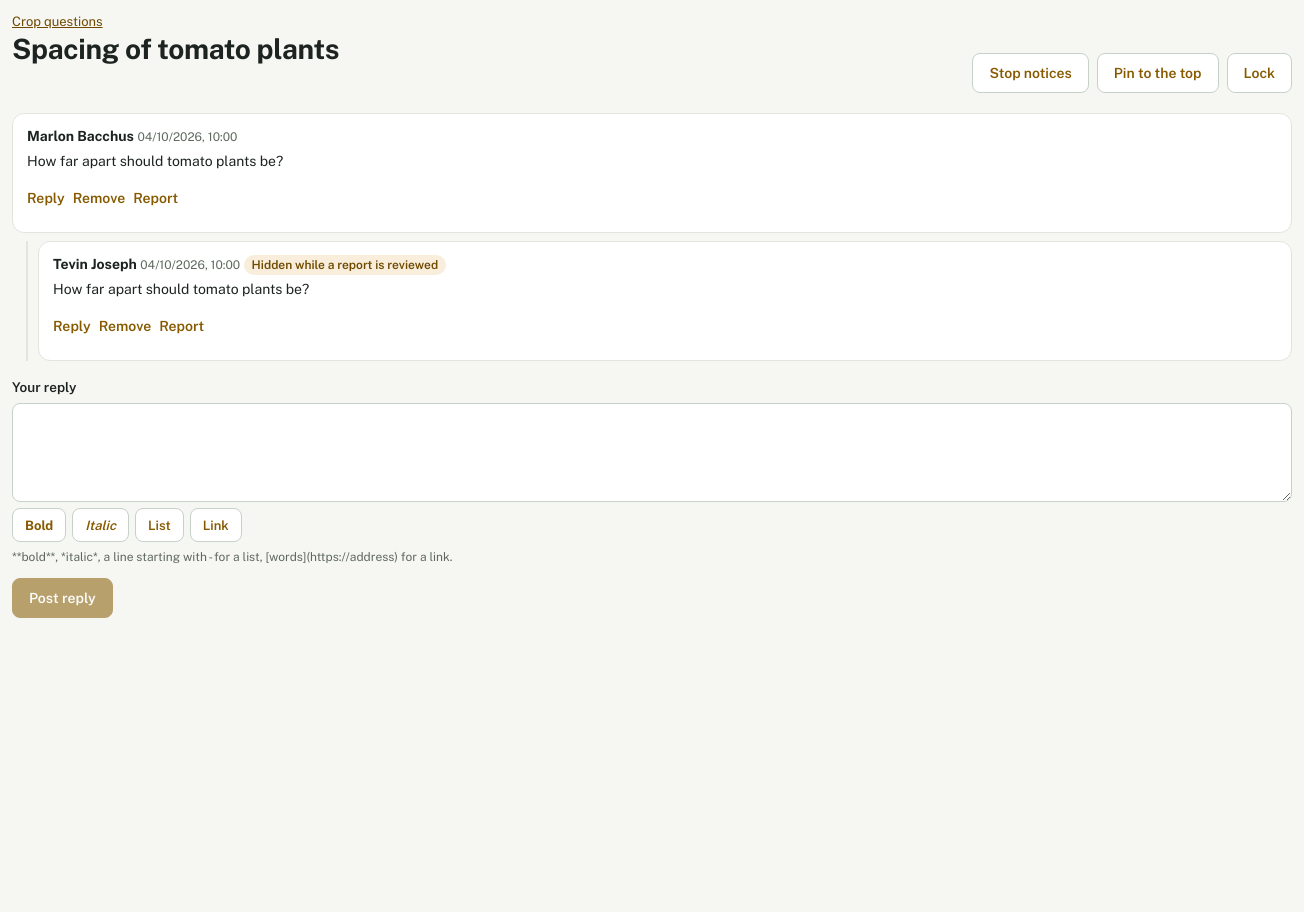
Test: a discussion (items 4.08, 4.09) › lets a moderator pin, lock, and remove a post with a reason everyone sees
The image size is (1304, 912).
Expected: the text "Hidden while a report is reviewed" is shown, [244,255,446,275]
Click the button "Remove" below "Tevin Joseph" at coordinates (125, 326), box [99,304,151,348]
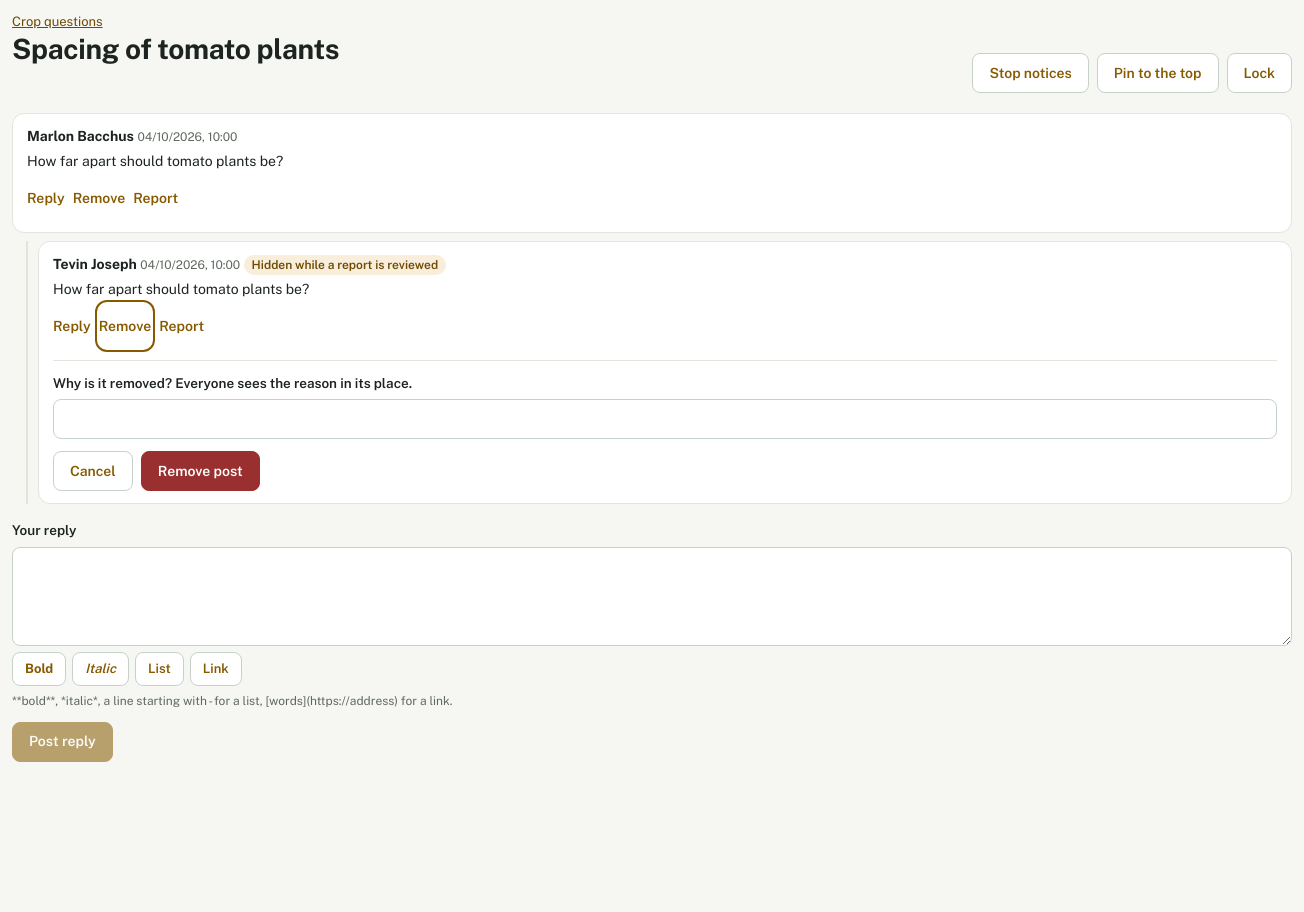
Type "Advertising" into the field labelled "Why is it removed? Everyone sees the reason in its place." at coordinates (665, 419), box [53,399,1277,439]
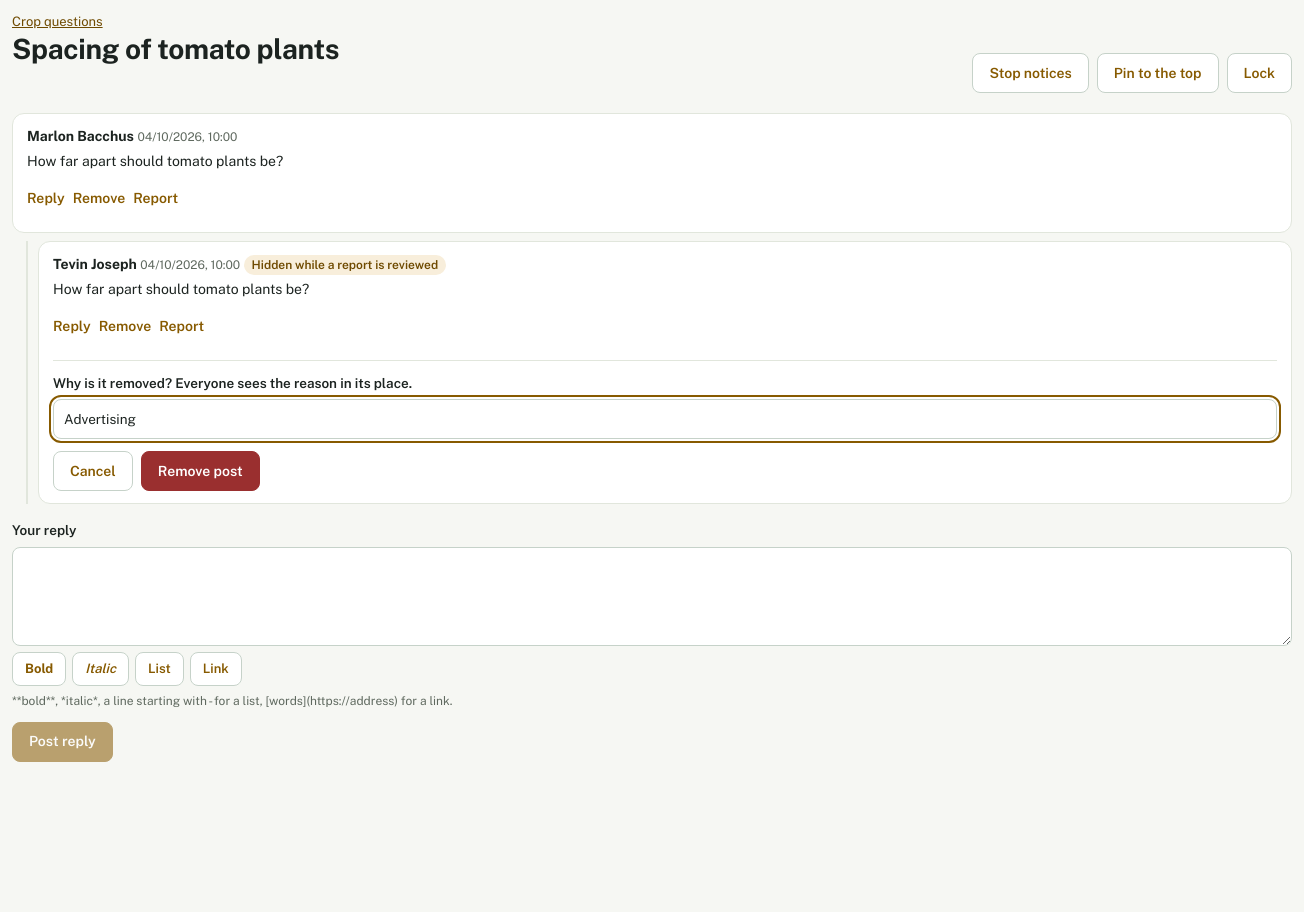
Click the button "Remove post" at coordinates (200, 471), box [141,451,260,491]
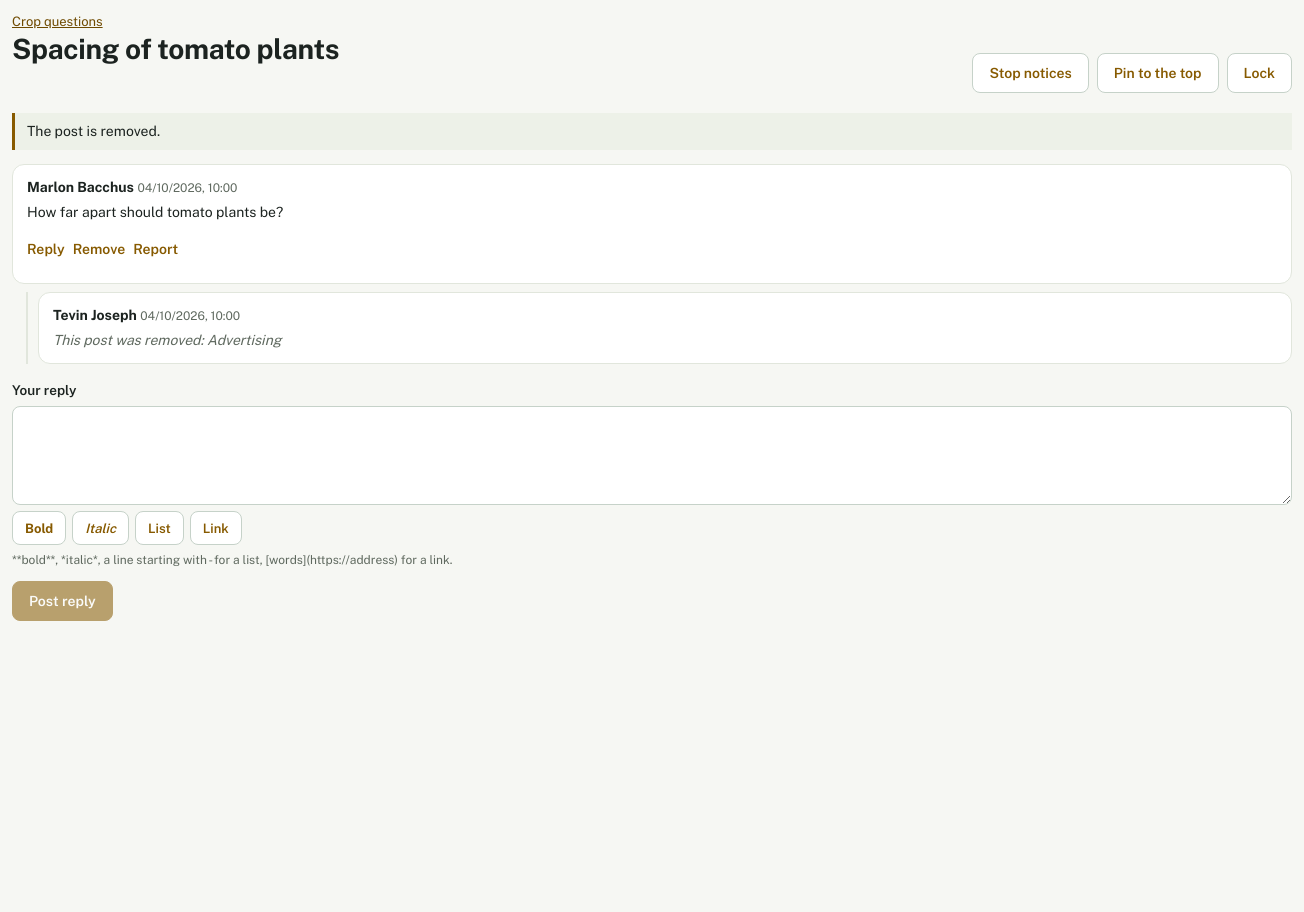
Expected: the text "This post was removed: Advertising" is shown, [53,332,282,348]
Click the button "Pin to the top" at coordinates (1158, 73), box [1097,53,1218,93]
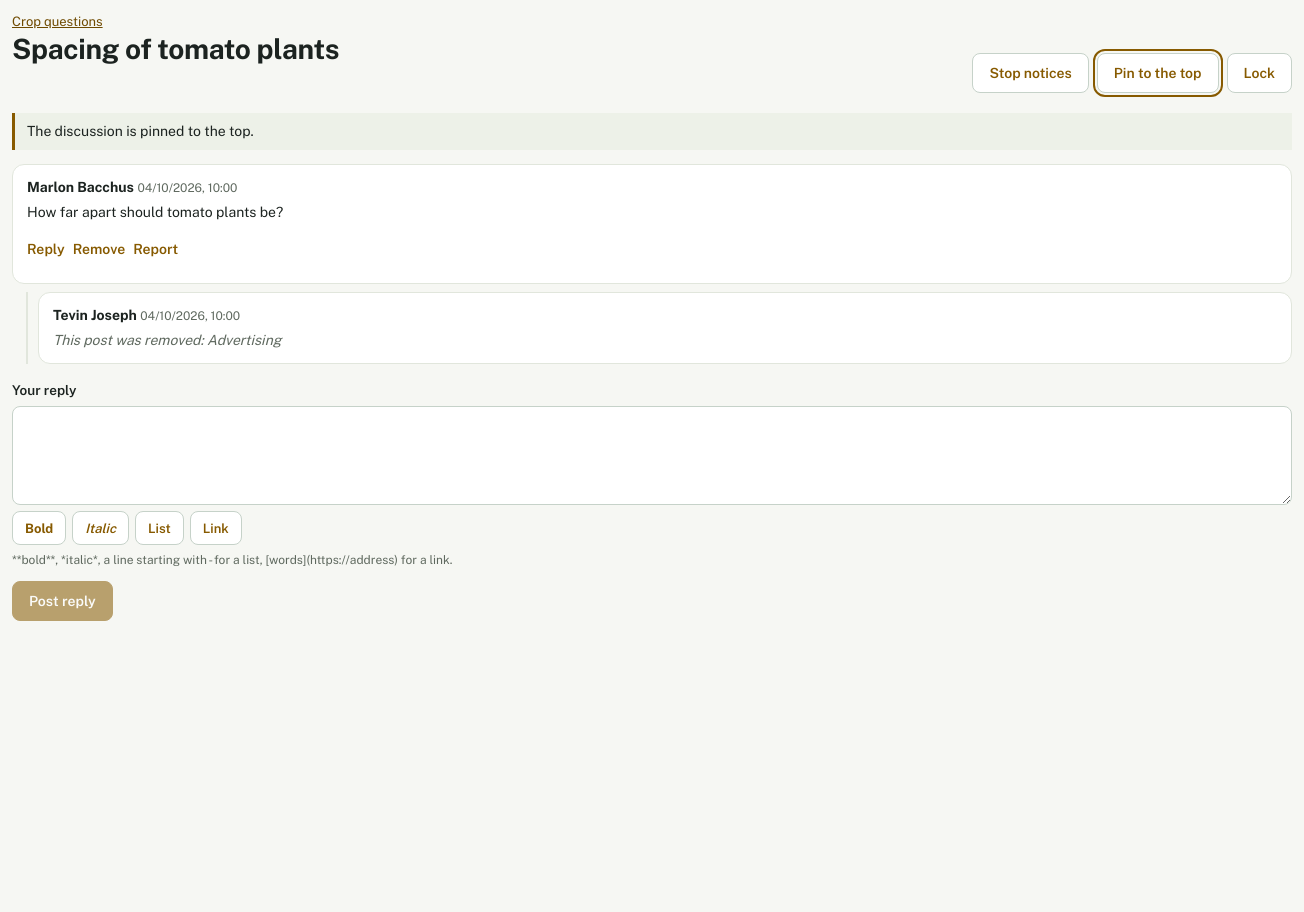
Click the button "Lock" at coordinates (1259, 73), box [1226,53,1292,93]
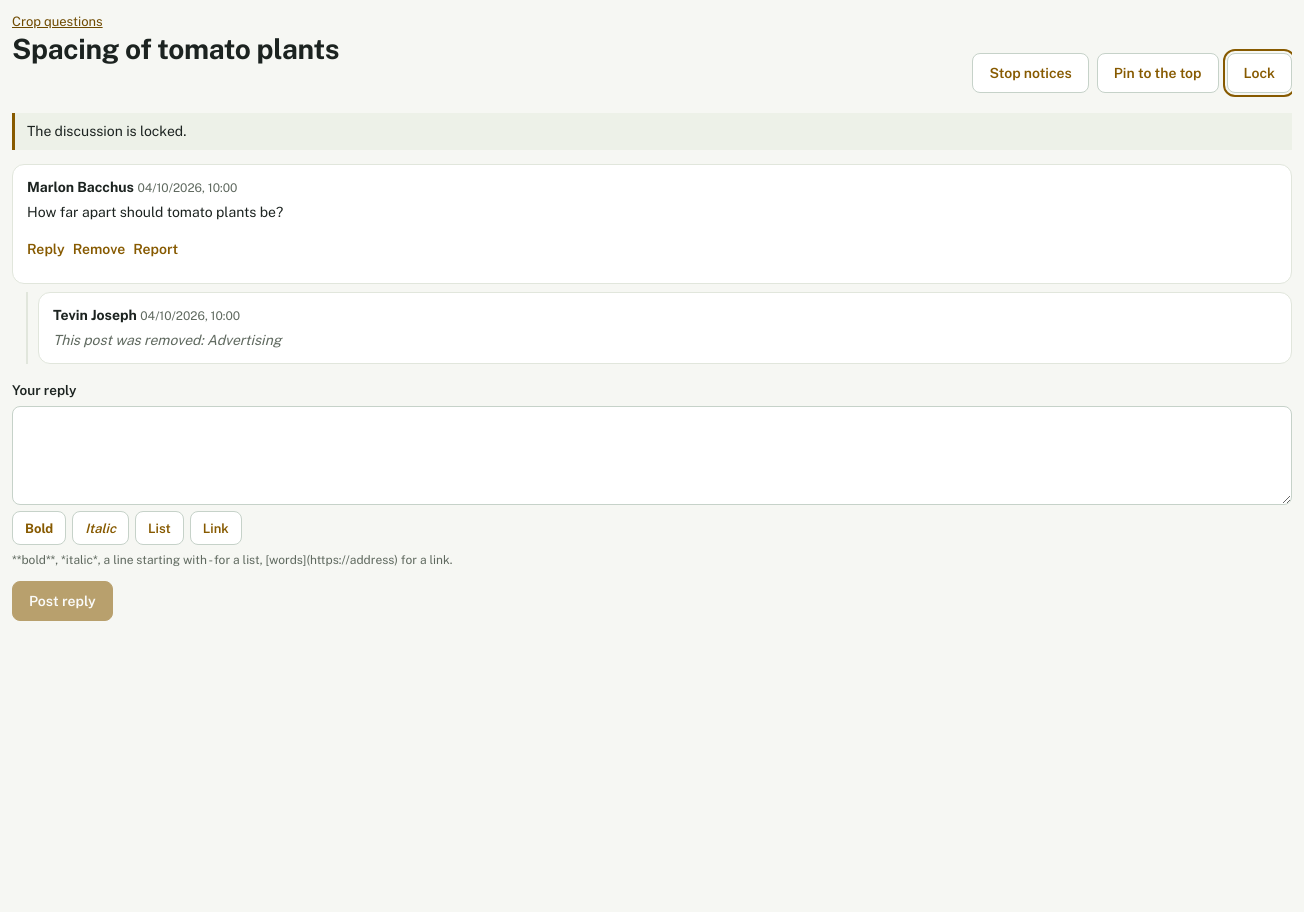
Expected: the text "The discussion is locked." is shown, [12,113,1292,150]
